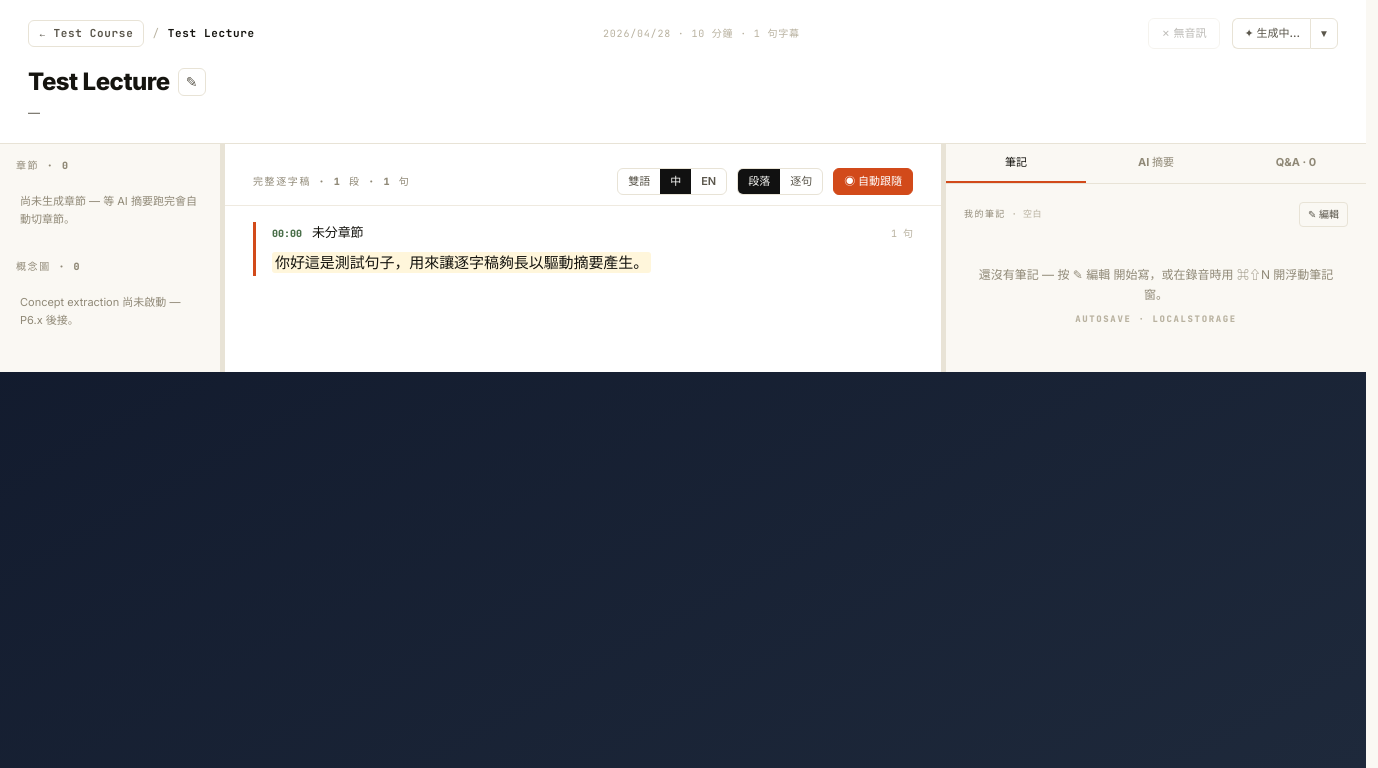
Scenario: H18ReviewPage · summary streaming subscribe (S2.4) › shows progress hint when an active summarize task matches lectureId
What coordinates should you click on to do the following:
click the button "AI 摘要"
I would click on:
 (1156, 163)
Its box is [1086,144,1226,183].
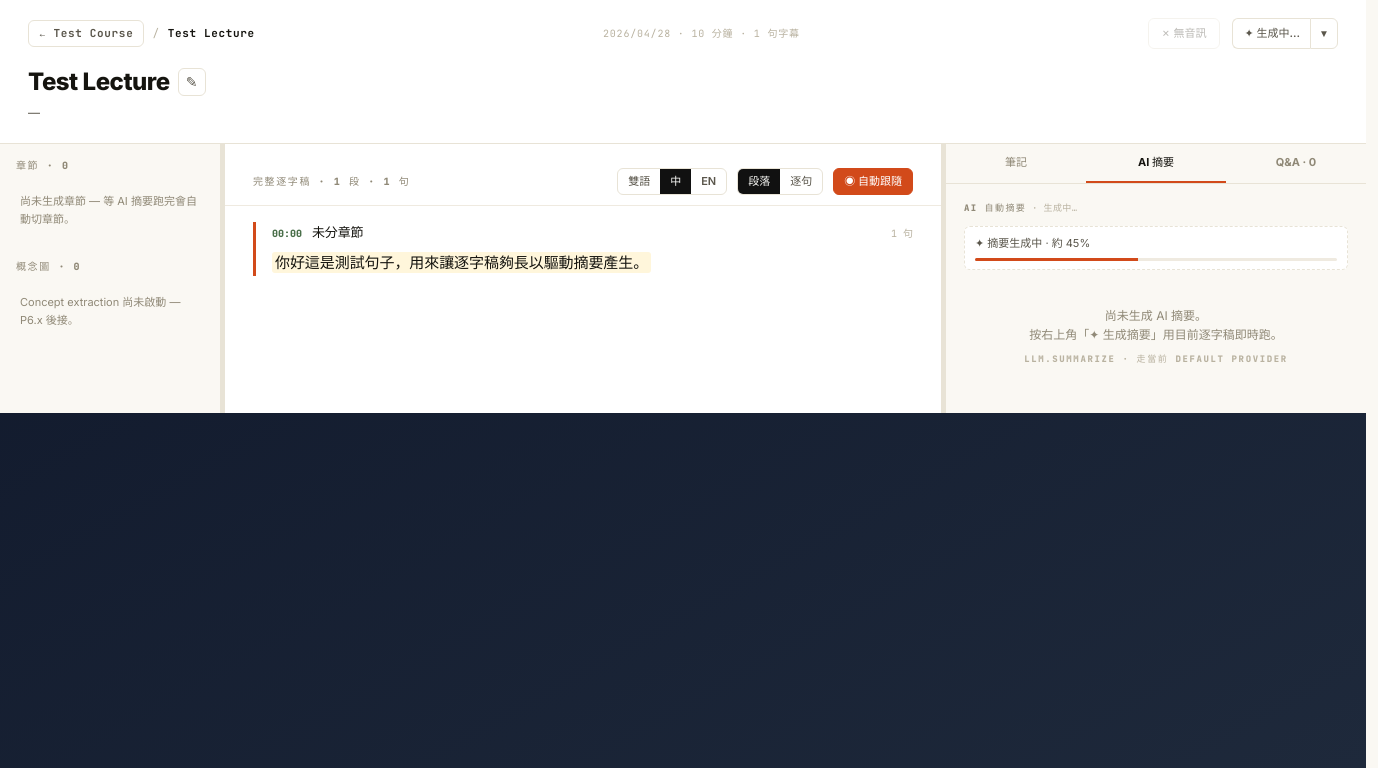
Expected: the text "✦ 摘要生成中 · 約 45%" is shown, [975,236,1090,250]
